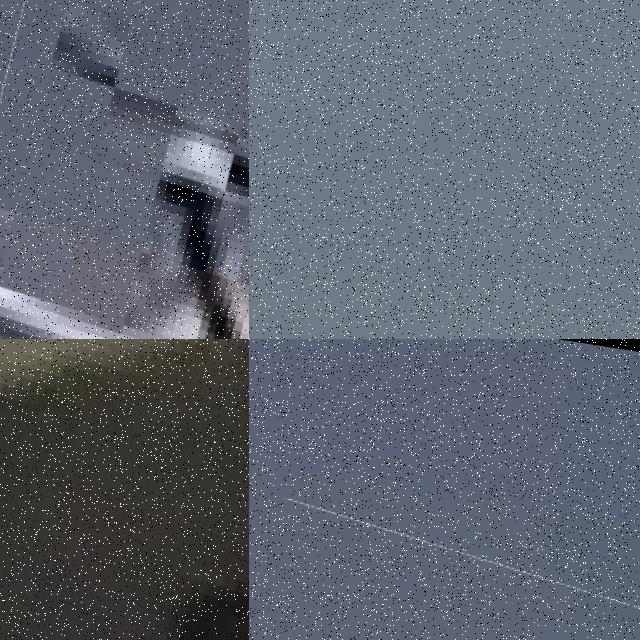drone: (0, 0, 249, 339), (0, 339, 249, 640), (249, 462, 640, 640)
